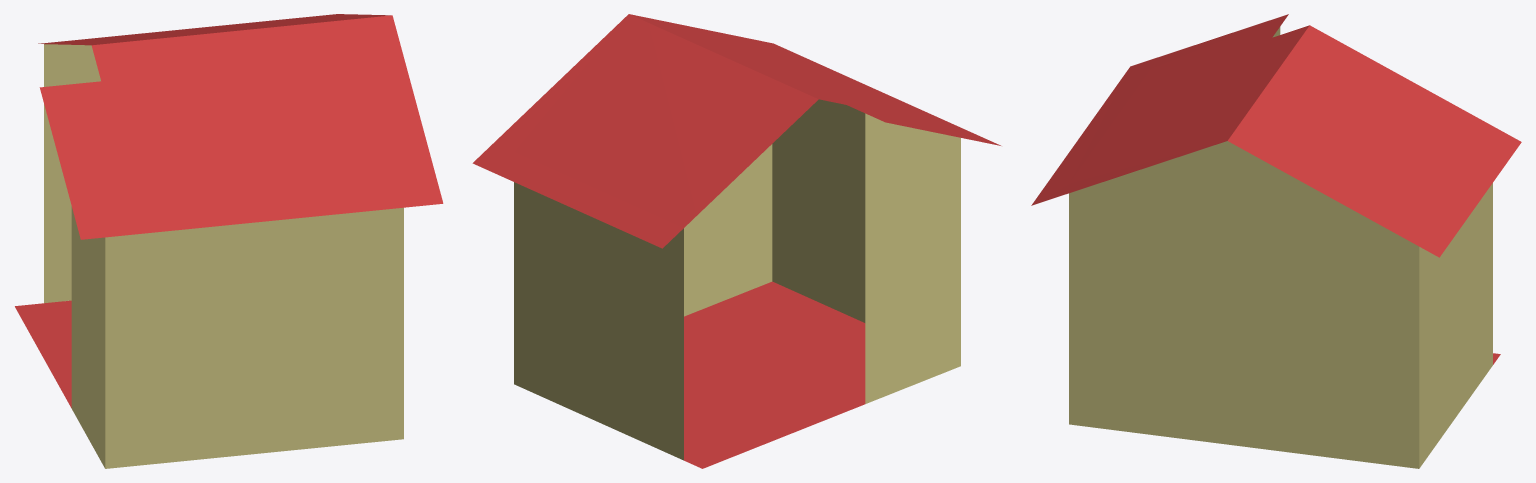
3 views of the same model, side by side, from view 1: azimuth 30°, elevation 25°; view 2: azimuth 150°, elevation 25°; view 3: azimuth 270°, elevation 25° (orthographic). The views are drawn at different scales.
Visible parts, largest first — view 1: group_5, group_3, group_6, group_4; view 2: group_5, group_3, group_6, group_4; view 3: group_5, group_3, group_4.
Boxes of the visible parts, x1=… form: group_5: x1=44, y1=44, x2=403, y2=468; group_3: x1=38, y1=14, x2=443, y2=239; group_6: x1=15, y1=300, x2=71, y2=407; group_4: x1=41, y1=15, x2=370, y2=238; group_5: x1=514, y1=99, x2=960, y2=460; group_3: x1=472, y1=14, x2=1000, y2=248; group_6: x1=684, y1=281, x2=865, y2=468; group_4: x1=474, y1=63, x2=990, y2=247; group_5: x1=1069, y1=27, x2=1492, y2=468; group_3: x1=1031, y1=14, x2=1521, y2=257; group_4: x1=1078, y1=15, x2=1520, y2=255.
Bounding box in the file's own units: 11.19 × 12.13 × 8.65.
